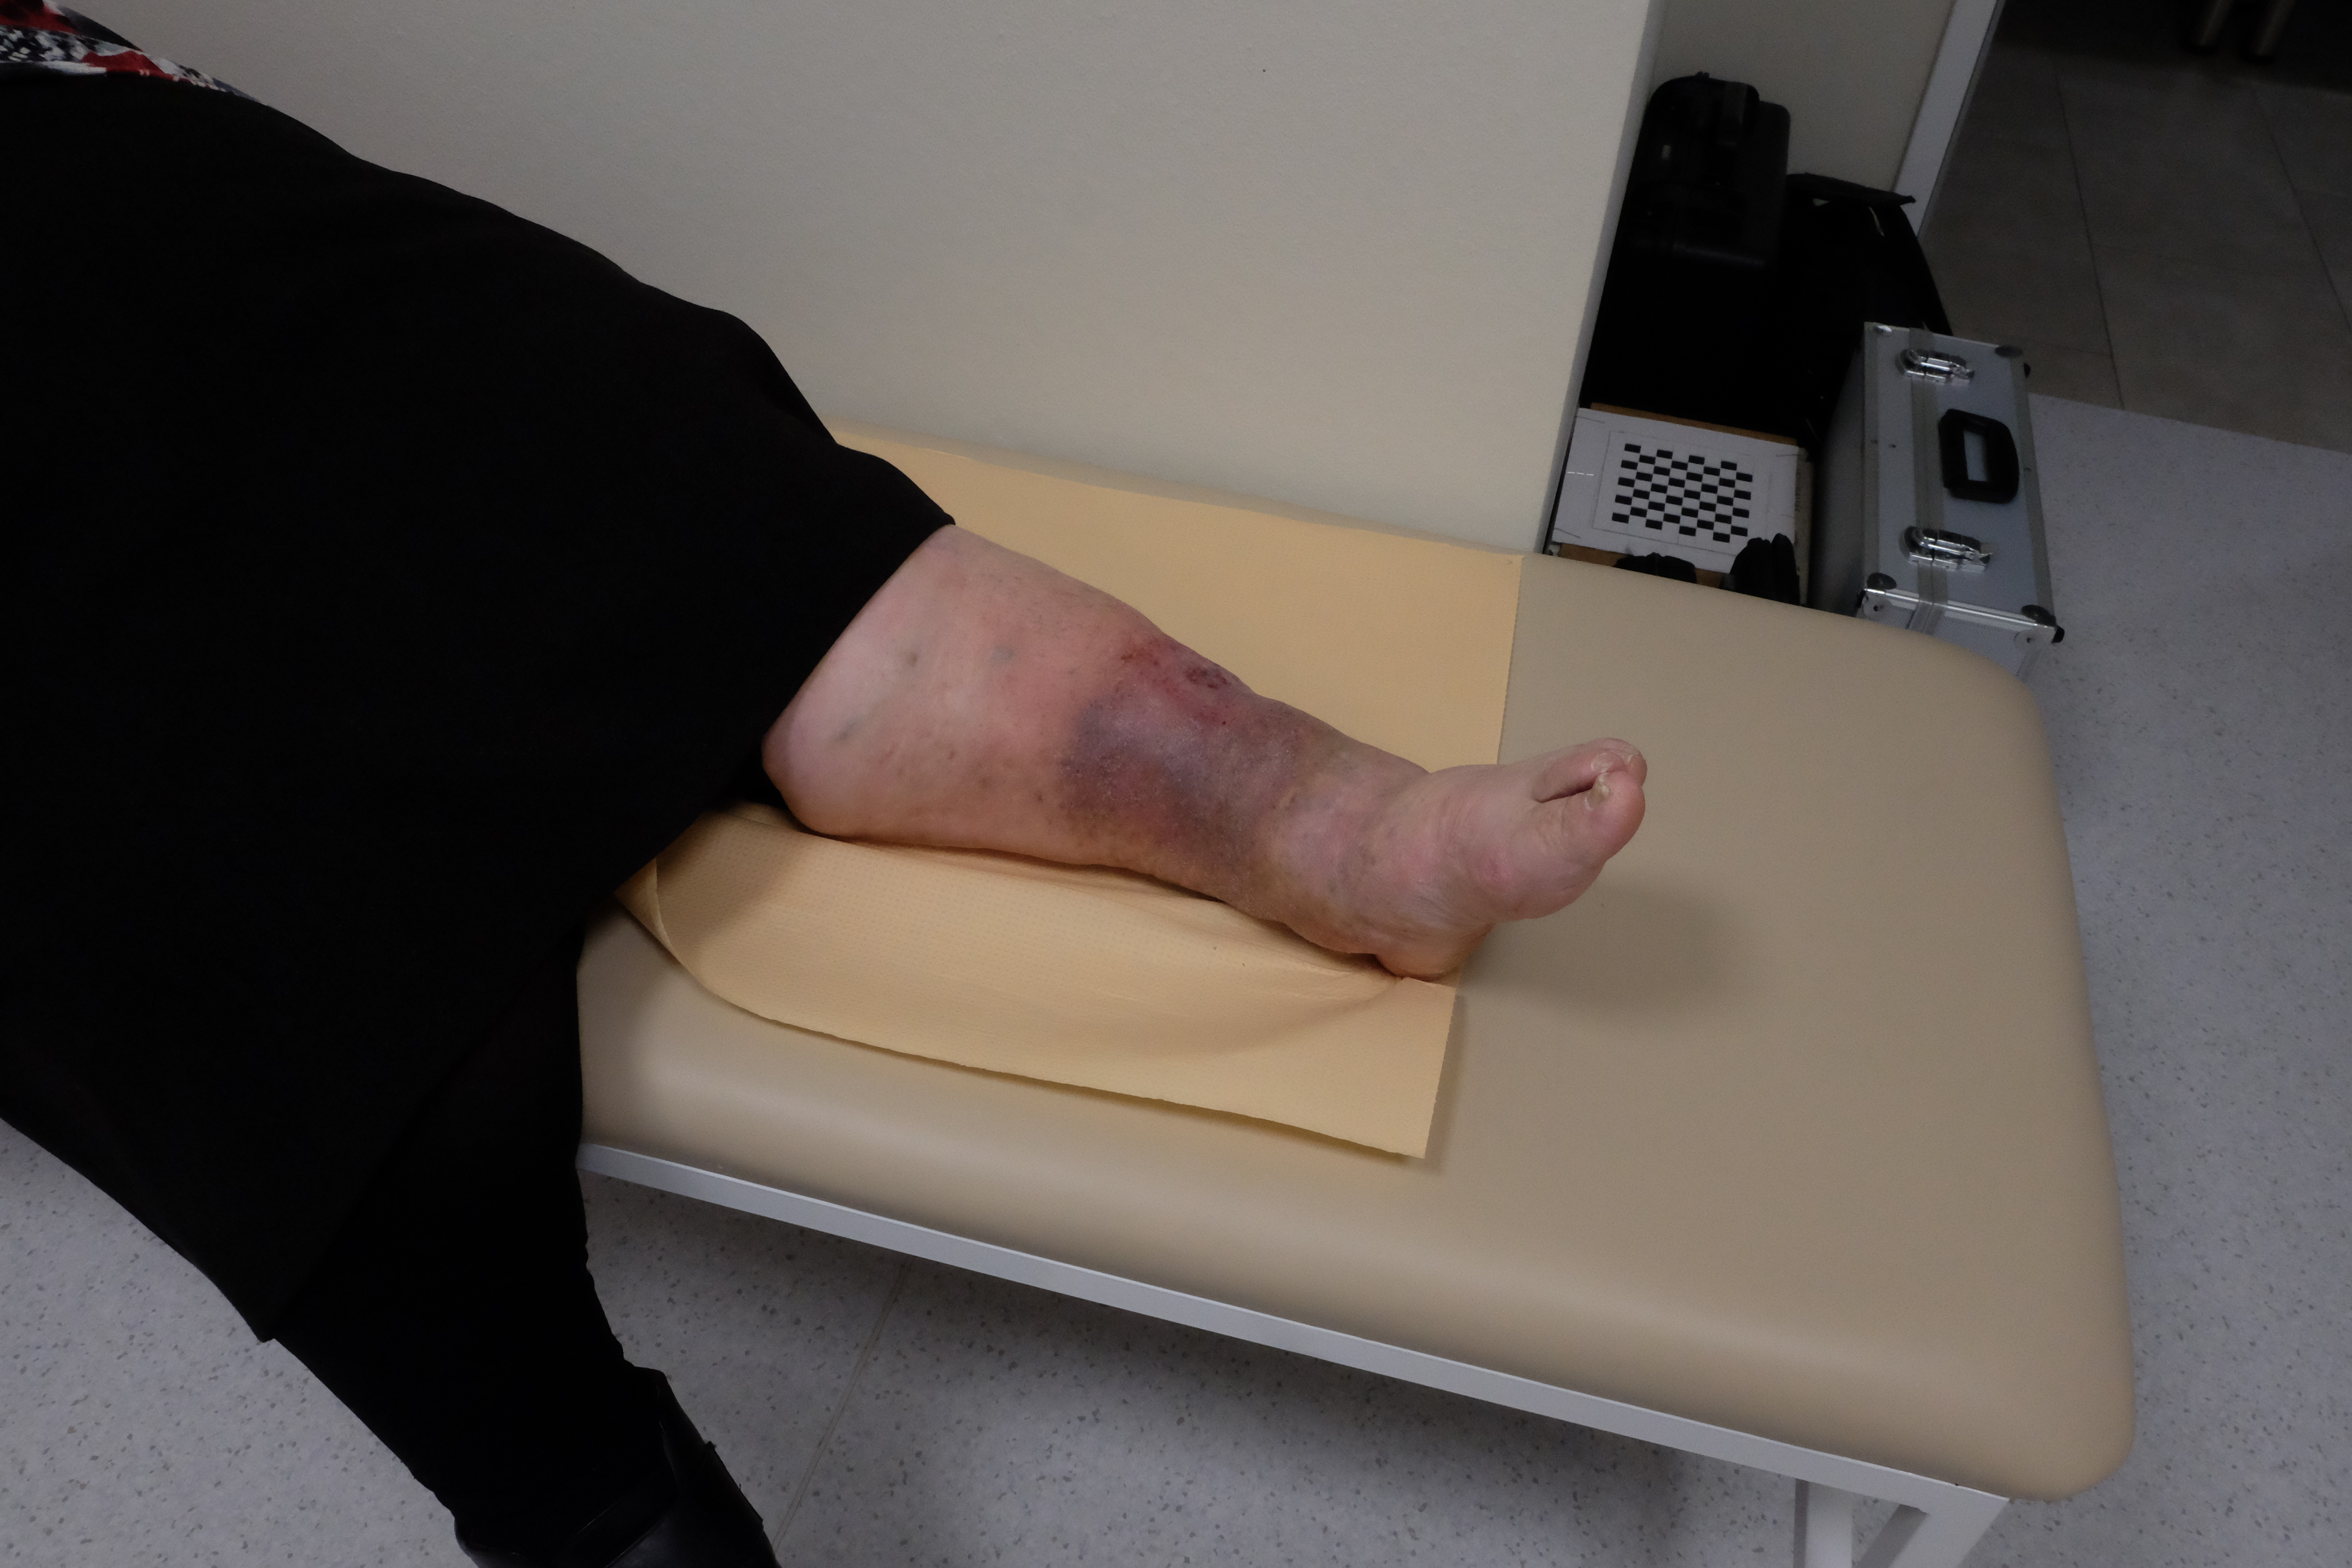wound: (1185, 656, 1234, 695)
